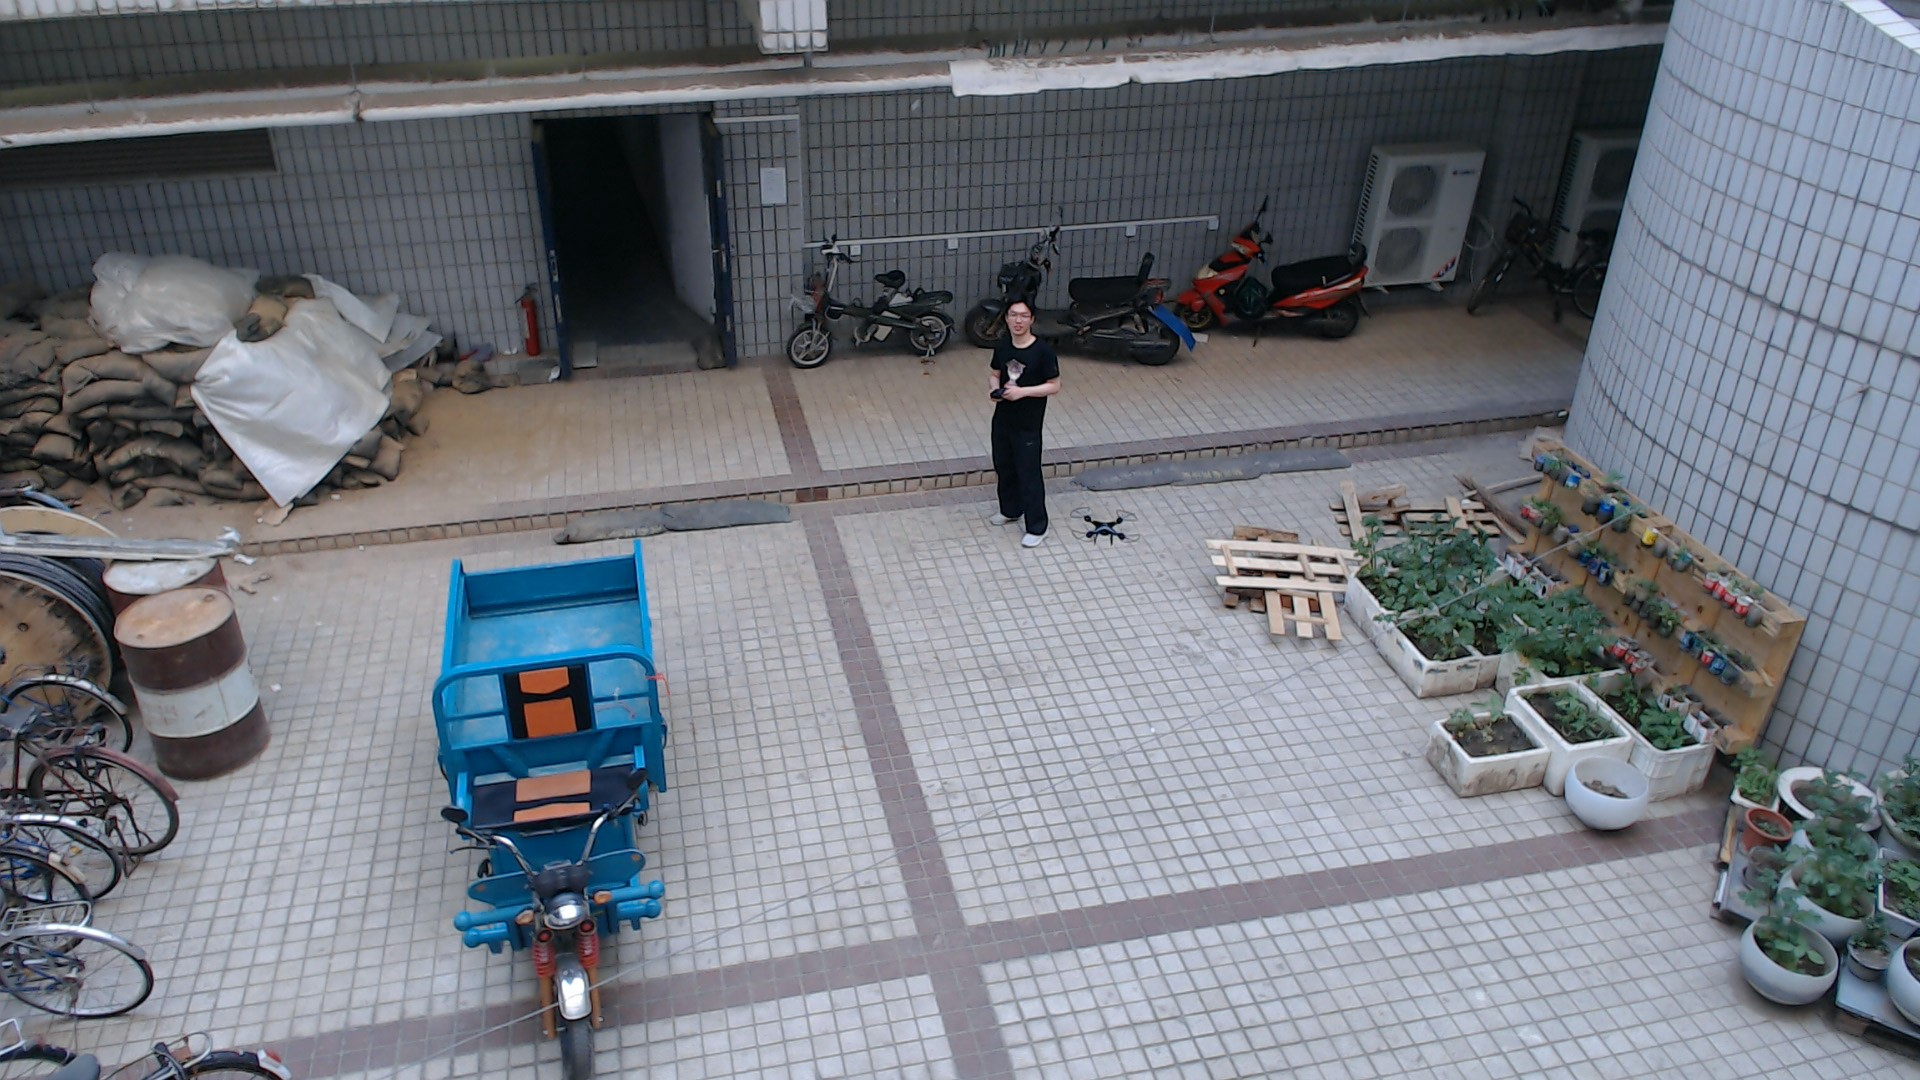drone: (1065, 491, 1151, 559)
person: (960, 296, 1071, 553)
